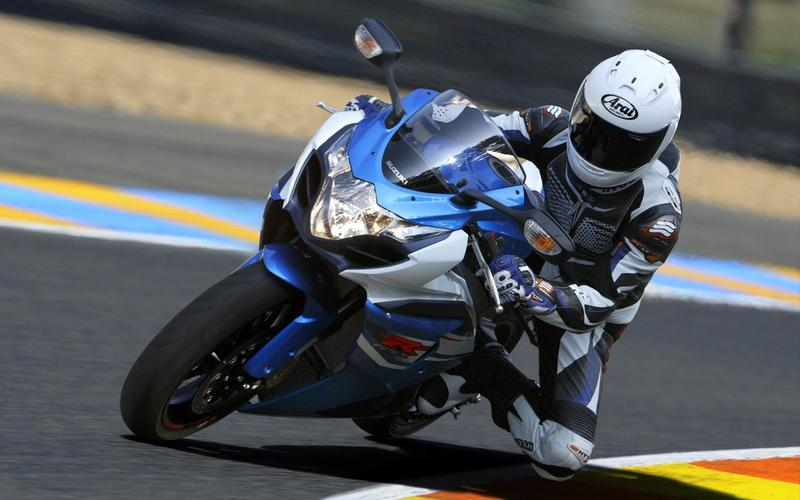摩托车: (107, 8, 550, 464)
